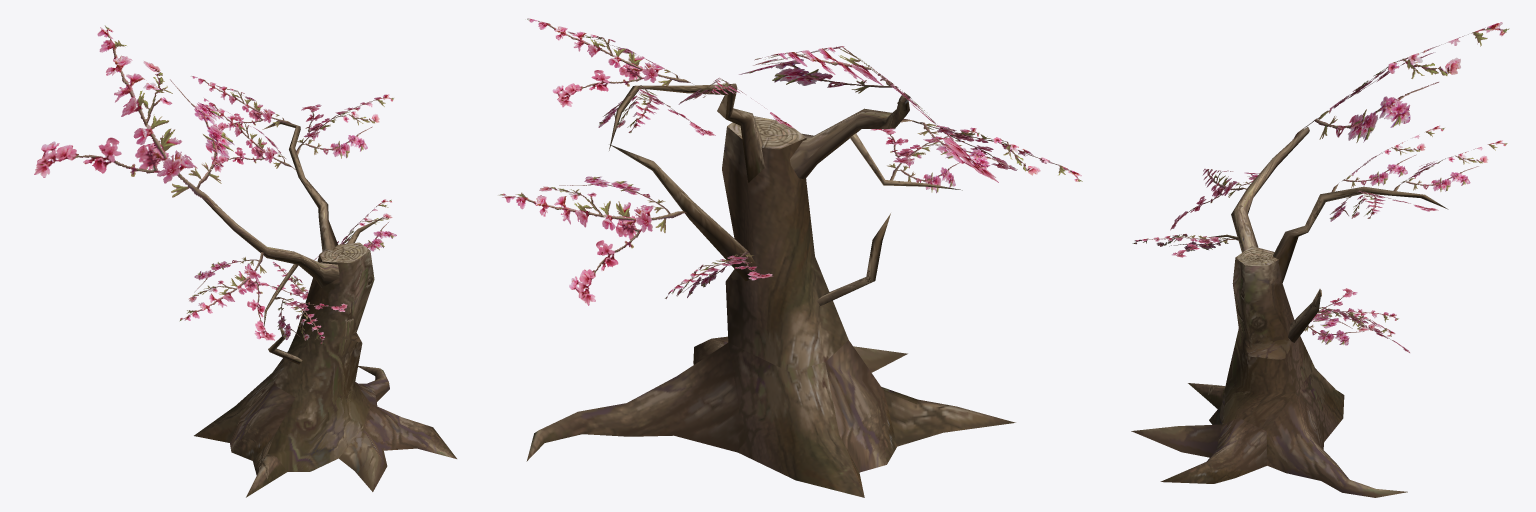
The model's file is SC001Jzhiwu_45_02.FBX.
3 renders of one model, left to right at view 1: azimuth 30°, elevation 25°; view 2: azimuth 150°, elevation 25°; view 3: azimuth 270°, elevation 25°, orthographic. The views are drawn at different scales.
Visible parts, largest first — view 1: SC001Jzhiwu_45_02; view 2: SC001Jzhiwu_45_02; view 3: SC001Jzhiwu_45_02.
Boxes of the visible parts, x1,y1,x2,y2 form: SC001Jzhiwu_45_02: [34, 25, 456, 497]; SC001Jzhiwu_45_02: [498, 18, 1082, 497]; SC001Jzhiwu_45_02: [1131, 22, 1509, 497].
Size of the model in its own units: 169 by 160 by 154.
